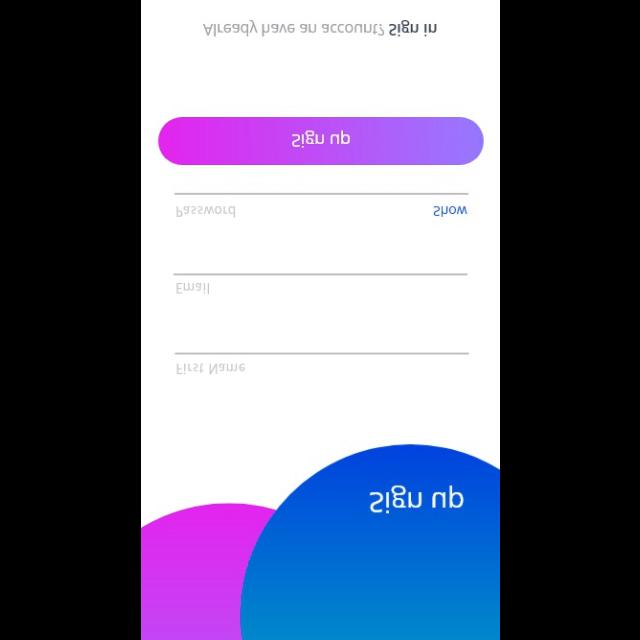input: (174, 192, 468, 218), (172, 273, 468, 295), (174, 352, 468, 374)
text: (202, 19, 438, 37), (368, 483, 464, 512), (177, 362, 246, 373), (176, 206, 234, 218), (176, 282, 208, 294), (433, 206, 467, 217)
textbutton: (158, 116, 484, 166)
